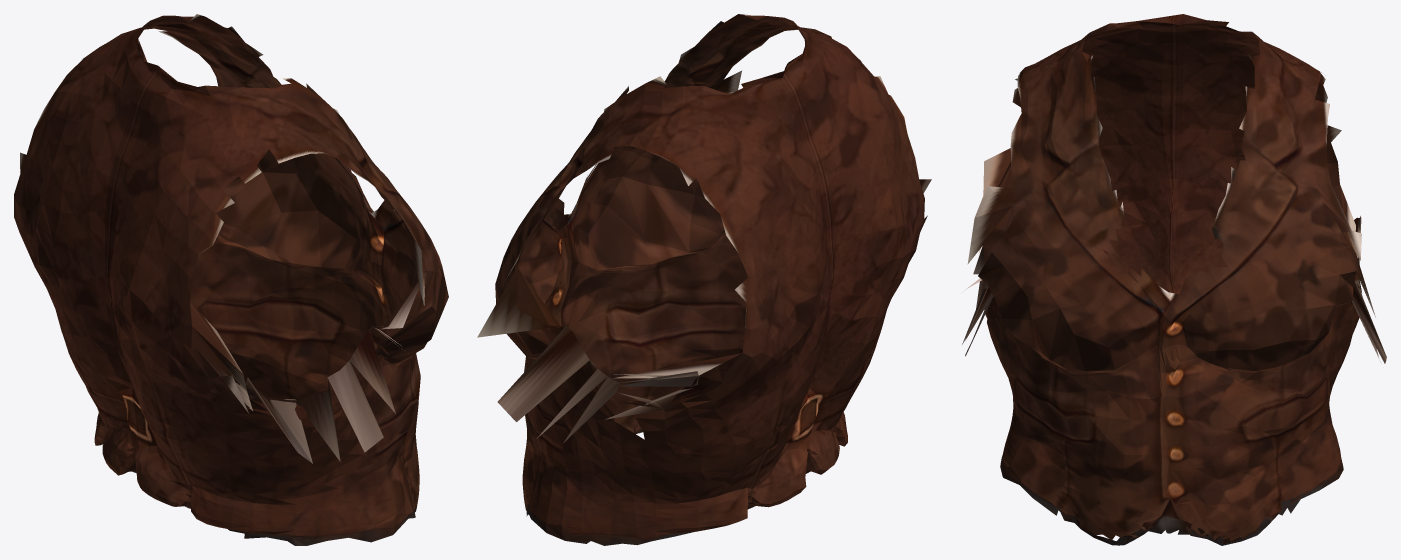
Rendered from bold_cowboy_under_vest.glb.
The picture shows the model from 3 angles, left to right: view 1: azimuth 30°, elevation 25°; view 2: azimuth 150°, elevation 25°; view 3: azimuth 270°, elevation 25°; orthographic projection. The views are drawn at different scales.
Visible parts, largest first — view 1: vest; view 2: vest; view 3: vest.
Part boxes in pixels (x1,y1,x2,y2): vest: (14,14,448,545); vest: (477,14,931,545); vest: (962,14,1386,545).
Size of the model in its own units: 0.1902 by 0.2805 by 0.2522.
Materials: 1 (1 with a texture image).
